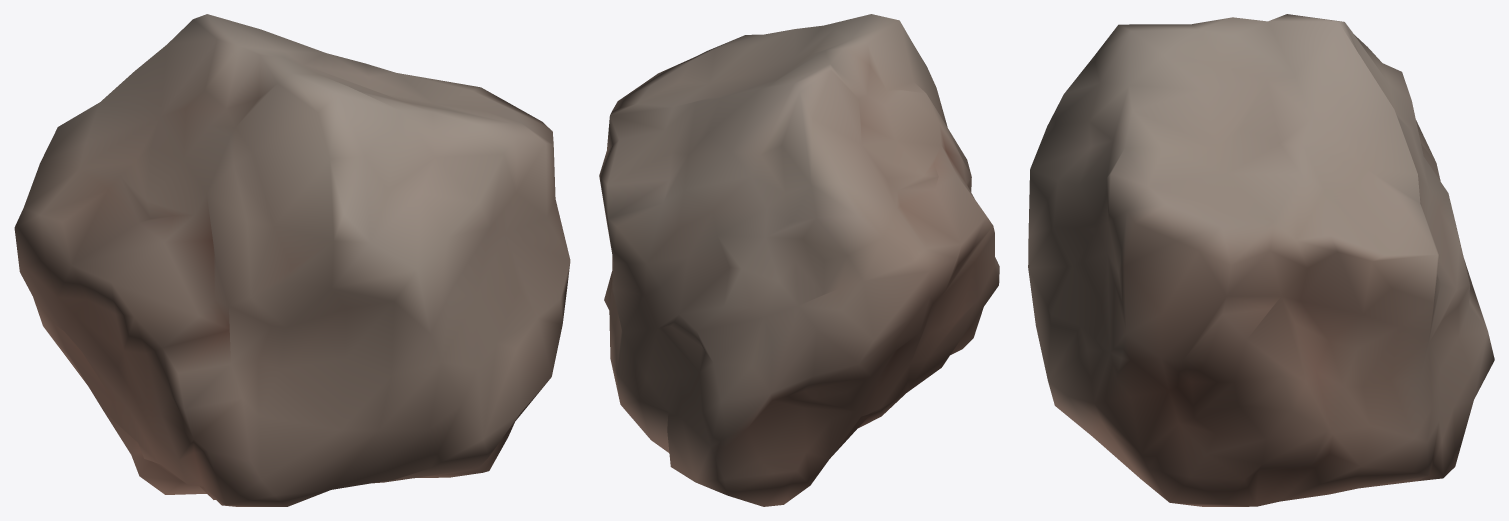
Rendered from microscopic-dust-particles-sand-grain_v3.glb.
The picture shows the model from 3 angles, left to right: view 1: azimuth 30°, elevation 25°; view 2: azimuth 150°, elevation 25°; view 3: azimuth 270°, elevation 25°; orthographic projection. The views are drawn at different scales.
Parts seen in each view (by area): view 1: Sand Grain_v3; view 2: Sand Grain_v3; view 3: Sand Grain_v3.
Boxes of the visible parts, <box> form: Sand Grain_v3: <box>14,14,570,506</box>; Sand Grain_v3: <box>599,14,999,506</box>; Sand Grain_v3: <box>1028,14,1494,506</box>.
Bounding box in the file's own units: 0.096 × 0.1 × 0.0929.
